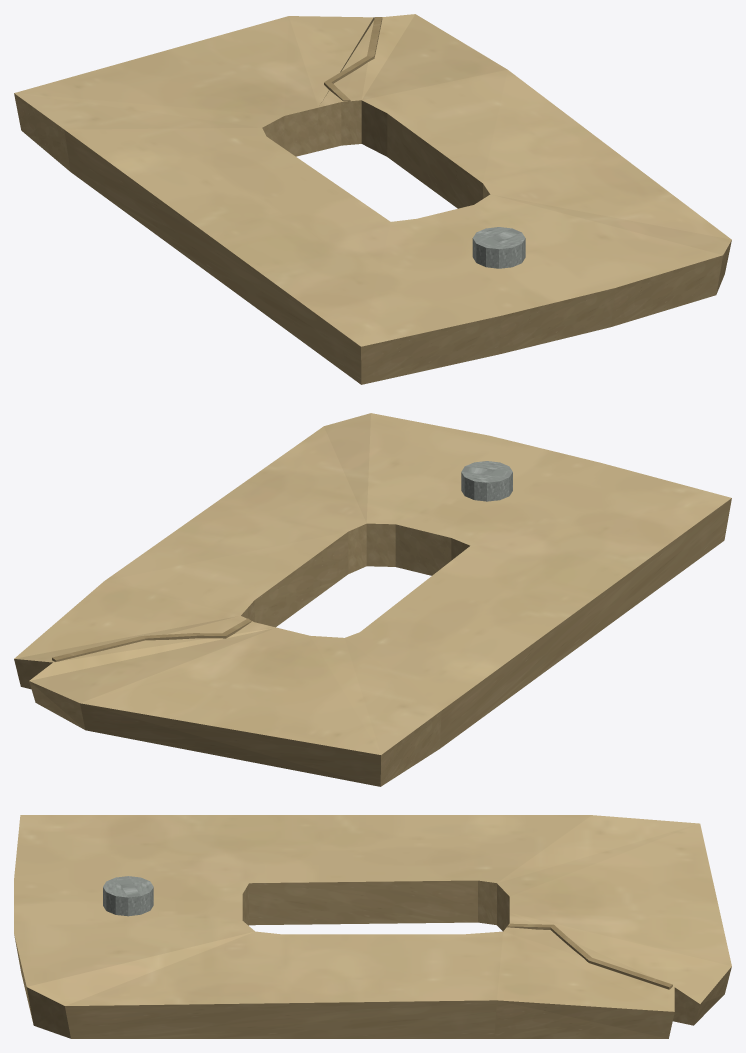
The model's file is debris_faceplate_cracked.glb.
3 views of the same model, one above another, from view 1: azimuth 30°, elevation 25°; view 2: azimuth 150°, elevation 25°; view 3: azimuth 270°, elevation 25° (orthographic). The views are drawn at different scales.
Visible parts, largest first — view 1: Cracked Faceplate with Screw; view 2: Cracked Faceplate with Screw; view 3: Cracked Faceplate with Screw.
Part boxes in pixels (x1,y1,x2,y2): Cracked Faceplate with Screw: [14, 14, 731, 384]; Cracked Faceplate with Screw: [14, 413, 731, 786]; Cracked Faceplate with Screw: [14, 815, 731, 1038].
Bounding box in the file's own units: 0.069 × 0.0104 × 0.113.
Materials: 1 (1 with a texture image).
